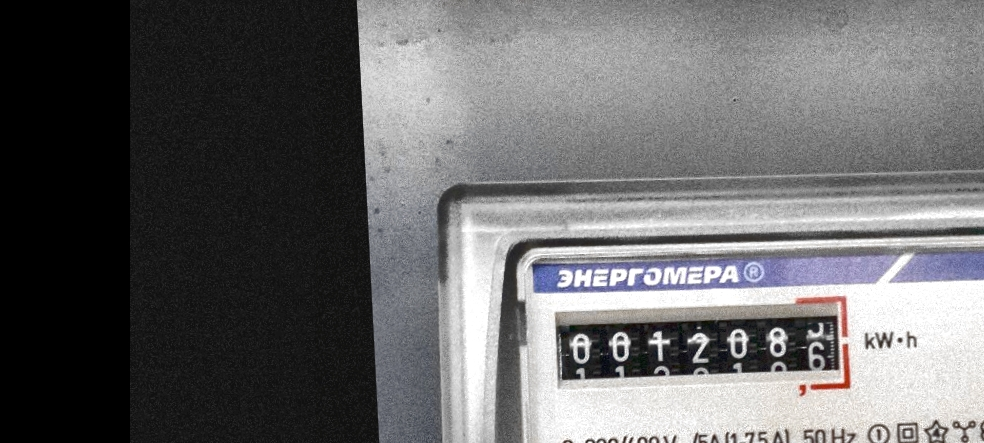0: (725, 323, 752, 359), (608, 325, 633, 363), (570, 327, 592, 365)
1: (649, 325, 668, 363)
2: (686, 328, 714, 364)
6: (804, 335, 829, 371)
8: (764, 322, 789, 359)
screen: (544, 284, 861, 417)
